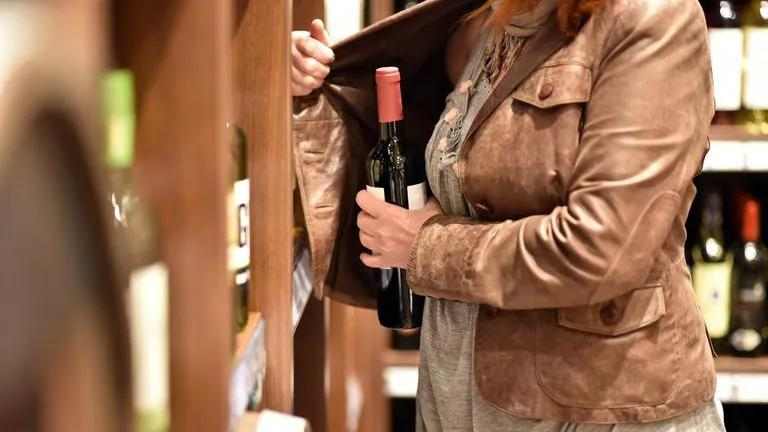shoplifting: (260, 14, 530, 357)
